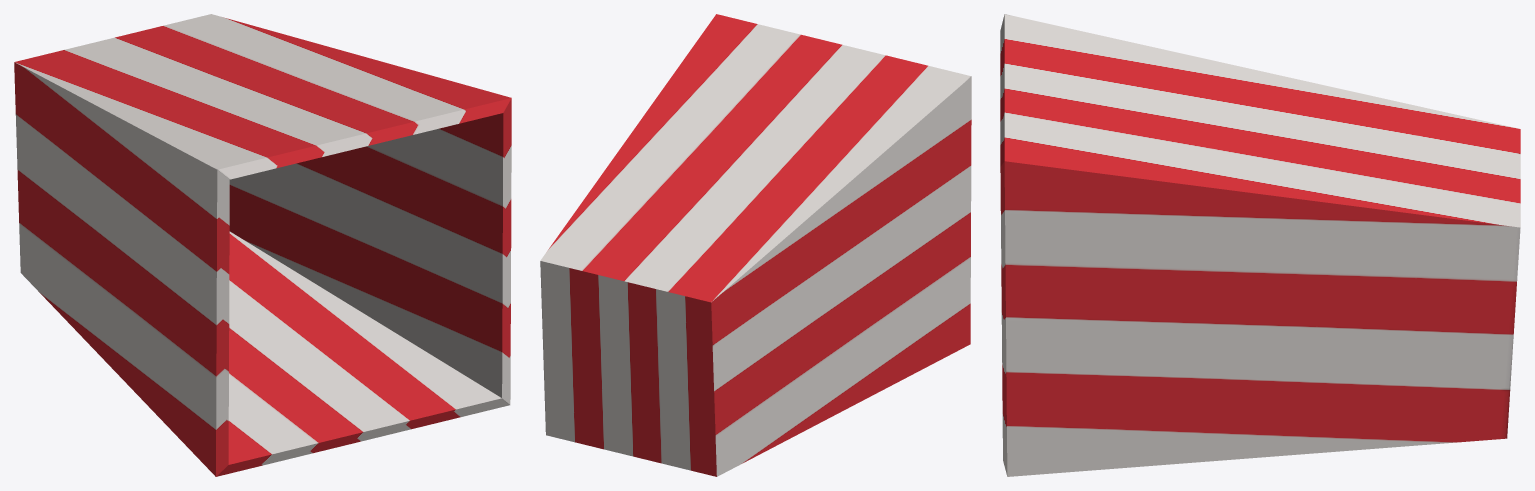
The model's file is PopCornDiscard.fbx.
3 views of the same model, side by side, from view 1: azimuth 30°, elevation 25°; view 2: azimuth 150°, elevation 25°; view 3: azimuth 270°, elevation 25° (orthographic). The views are drawn at different scales.
Parts seen in each view (by area): view 1: PopCornDiscard; view 2: PopCornDiscard; view 3: PopCornDiscard.
Part boxes in pixels (<box>): PopCornDiscard: <box>14,14,511,476</box>; PopCornDiscard: <box>540,14,971,476</box>; PopCornDiscard: <box>1000,14,1520,476</box>.
Size of the model in its own units: 0.1585 by 0.1585 by 0.2366.
